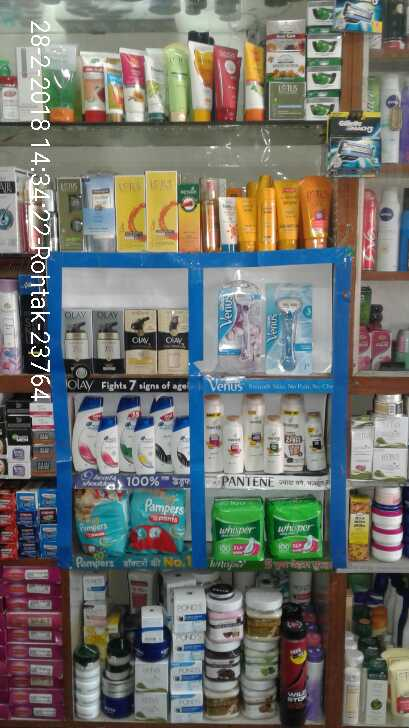gillete: (323, 110, 380, 175), (339, 1, 380, 34)
venus: (265, 284, 312, 375), (219, 284, 264, 374)
